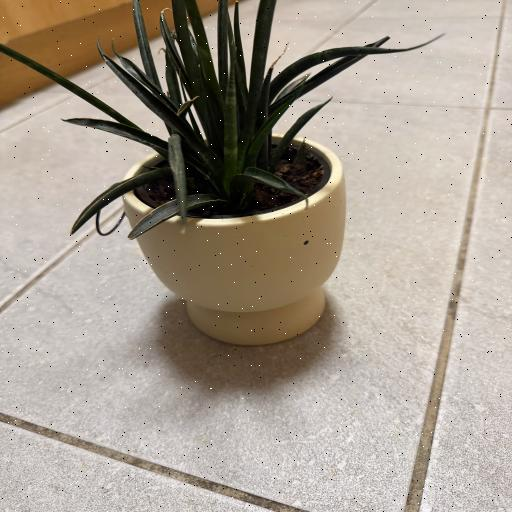Plant Pot: (125, 136, 359, 347)
